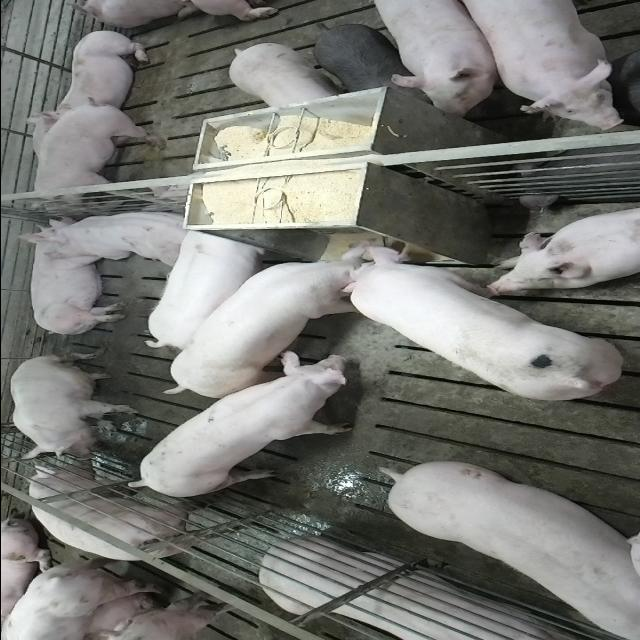Feeding: (338, 241, 624, 404), (163, 234, 386, 396)
Lateral_lying: (14, 220, 128, 338)
Sitting: (8, 354, 138, 461)
Standing: (375, 456, 635, 636), (121, 358, 360, 501), (444, 2, 632, 132), (26, 460, 232, 560), (143, 226, 272, 352), (368, 2, 499, 118), (27, 103, 167, 209), (0, 566, 157, 640), (227, 42, 343, 109), (310, 24, 420, 94), (609, 30, 640, 131)
Sternal_lying: (260, 540, 601, 640), (485, 204, 640, 293), (27, 206, 195, 264), (45, 28, 153, 116), (23, 108, 70, 160)
